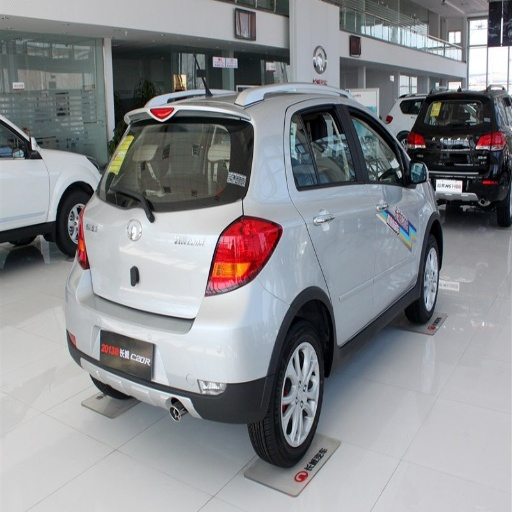back_bumper: (65, 265, 289, 424)
back_right_door: (289, 103, 382, 336)
tailgate: (152, 232, 217, 319)
trunk: (88, 205, 237, 320)
